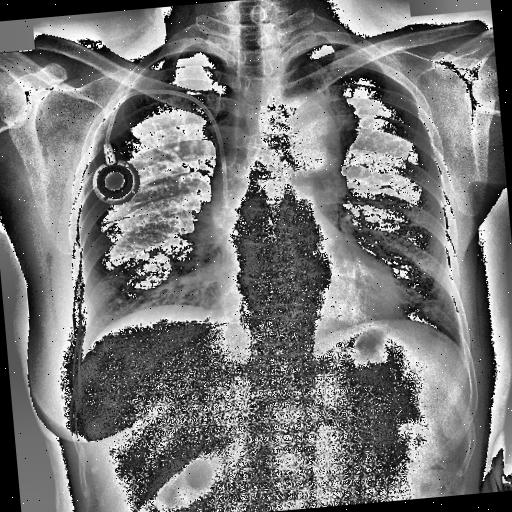0- Aortic enlargement: (270, 86, 368, 176), (268, 92, 345, 192), (260, 90, 342, 180)
11- Pleural thickening: (164, 40, 222, 61)
3- Cardiomegaly: (214, 250, 400, 340)
7- Lung Opacity: (306, 60, 360, 158)
8- Nodule-Mass: (270, 86, 368, 176), (284, 88, 366, 180)
9- Other lesion: (270, 86, 368, 176)
